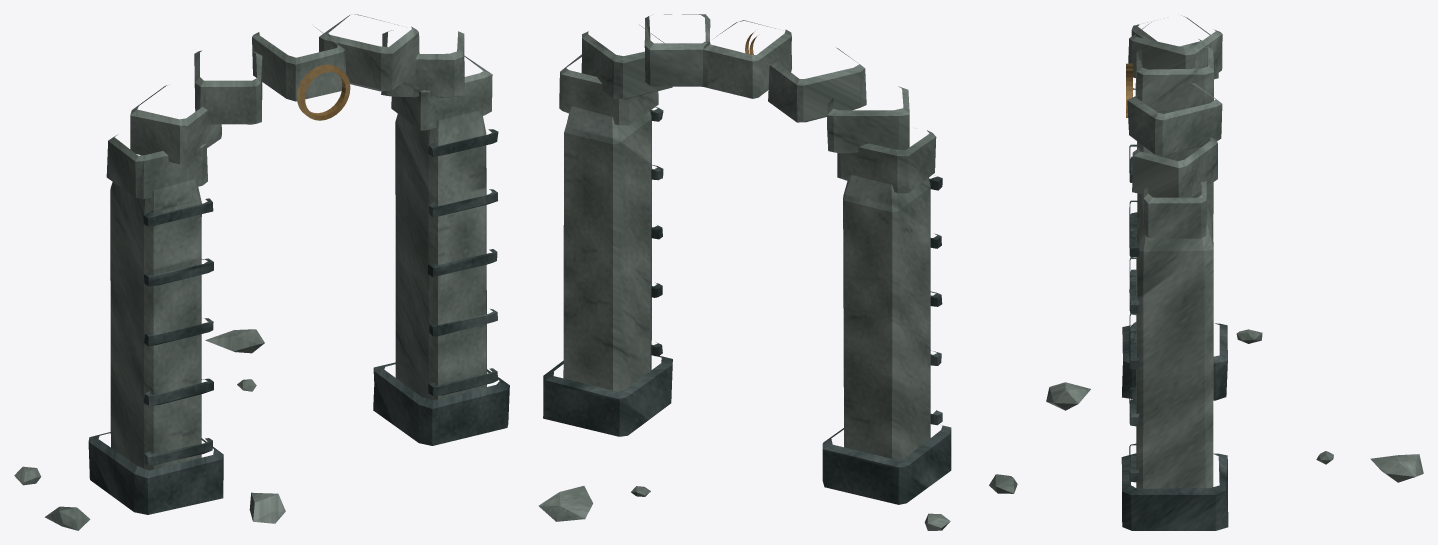
Rendered from 0317_archway_17.glb.
3 views of the same model, side by side, from view 1: azimuth 30°, elevation 25°; view 2: azimuth 150°, elevation 25°; view 3: azimuth 270°, elevation 25° (orthographic). The views are drawn at different scales.
Parts seen in each view (by area): view 1: stone, stone_dark, brass; view 2: stone, stone_dark; view 3: stone, stone_dark.
Boxes of the visible parts, left/top/right/bottom form: stone: left=14, top=14, right=492, bottom=530; stone_dark: left=88, top=129, right=509, bottom=514; brass: left=297, top=64, right=350, bottom=120; stone: left=538, top=14, right=1017, bottom=530; stone_dark: left=543, top=107, right=951, bottom=504; stone: left=1046, top=16, right=1423, bottom=488; stone_dark: left=1121, top=88, right=1228, bottom=530.
Size of the model in its own units: 3.97 by 3.51 by 3.07.
3 materials, 3 textured.
